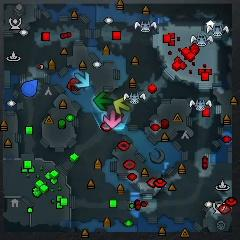p1: (21, 79, 38, 97)
x1: (103, 110, 121, 129)
x2: (114, 97, 130, 113)
x3: (74, 72, 91, 88)
x4: (94, 92, 112, 111)
